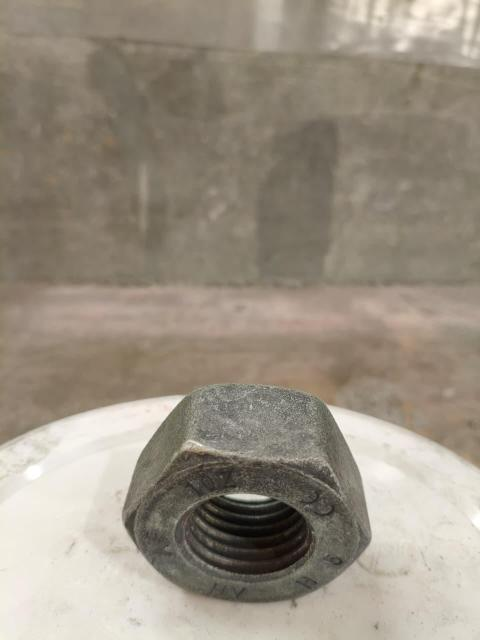Metal: (122, 382, 373, 605)
